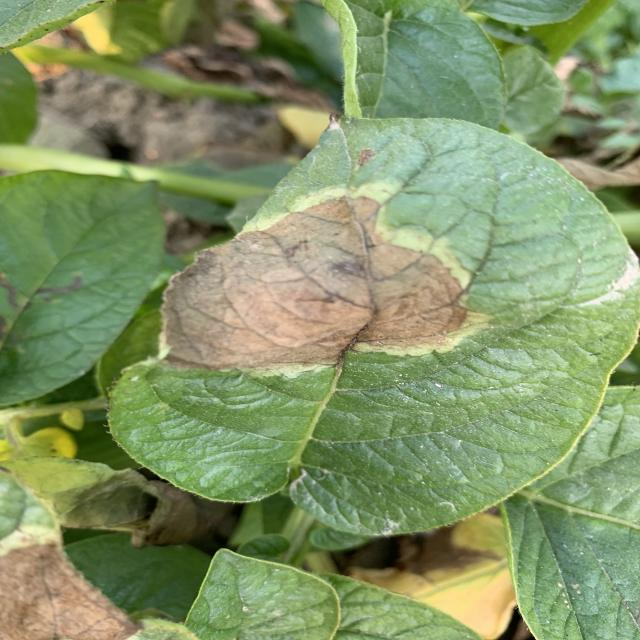lateblight: (162, 198, 467, 369)
